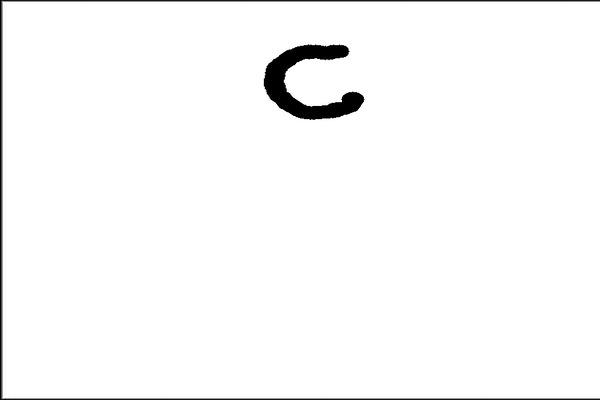C: (257, 37, 366, 121)
